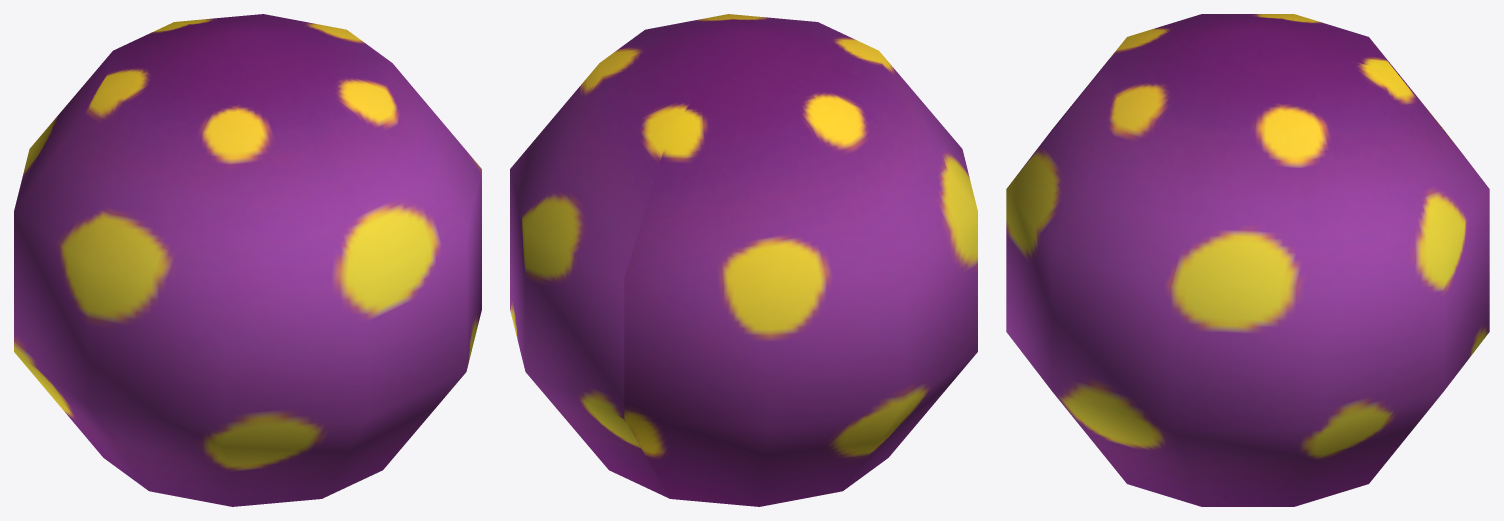
File: Baballe.FBX
3 views of the same model, side by side, from view 1: azimuth 30°, elevation 25°; view 2: azimuth 150°, elevation 25°; view 3: azimuth 270°, elevation 25° (orthographic).
Visible parts, largest first — view 1: Object014; view 2: Object014; view 3: Object014.
Part boxes in pixels (x1=…): Object014: x1=14, y1=14, x2=481, y2=506; Object014: x1=510, y1=14, x2=977, y2=506; Object014: x1=1006, y1=14, x2=1489, y2=506.
Size of the model in its own units: 11.42 by 12.63 by 12.01.
